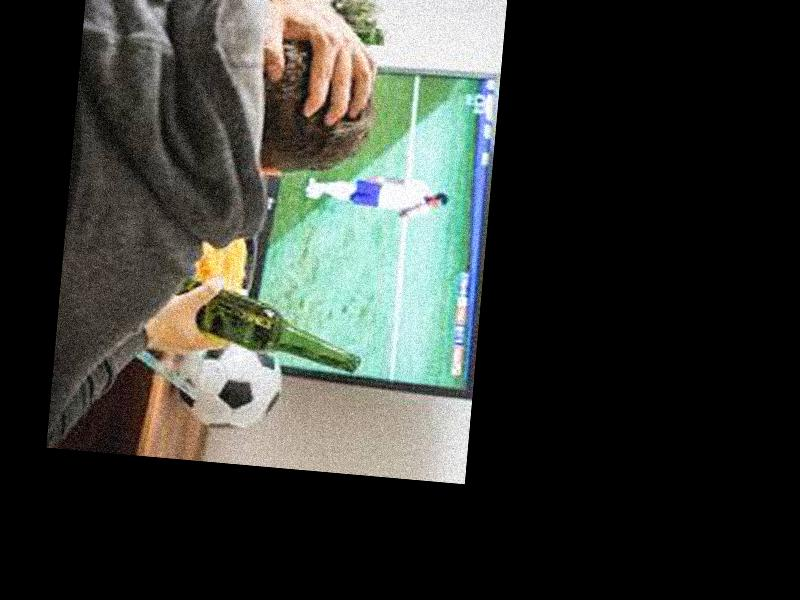Beer: (166, 283, 365, 373)
